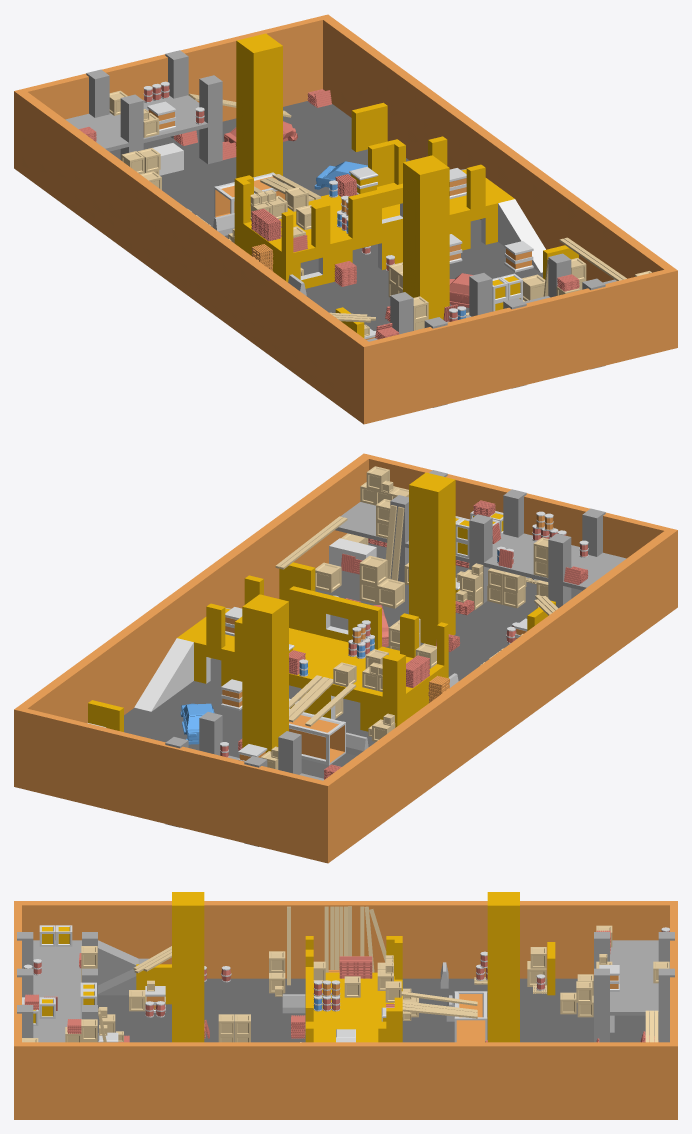
Rendered from arena_tdm_map.glb.
3 views of the same model, one above another, from view 1: azimuth 30°, elevation 25°; view 2: azimuth 150°, elevation 25°; view 3: azimuth 270°, elevation 25° (orthographic). The views are drawn at different scales.
Visible parts, largest first — view 1: floors, room, Plane, Cube.016, obj.048, obj.049, Cube.004, Cube.001, obj.004, Cube.005, BigBox.004, Cube.011 (+2 smaller); view 2: floors, room, Plane, Cube.004, obj.048, obj.049, Cube.016, Cube.002, Cube.005, obj.002, obj.004, Cube.017 (+4 smaller); view 3: floors, Plane, Cube.016, Cube.004, room, obj.048, obj.049, up2, Cube.005, Cube.030, obj.024, Cube.023 (+17 smaller).
Boxes of the visible parts, box(x1,y1,x2,y2) form: floors: box(14, 14, 677, 424); room: box(234, 136, 514, 288); Plane: box(110, 101, 542, 330); Cube.016: box(65, 50, 222, 164); obj.048: box(403, 155, 449, 319); obj.049: box(236, 33, 282, 178); Cube.004: box(367, 253, 616, 407); Cube.001: box(498, 199, 545, 272); obj.004: box(351, 102, 387, 151); Cube.005: box(214, 172, 286, 217); BigBox.004: box(504, 241, 533, 272); Cube.011: box(153, 143, 183, 175); floors: box(14, 453, 677, 863); room: box(177, 575, 448, 731); Plane: box(124, 543, 581, 778); Cube.004: box(335, 470, 626, 608); obj.048: box(409, 472, 455, 645); obj.049: box(242, 594, 288, 752); Cube.016: box(165, 712, 323, 846); Cube.002: box(134, 638, 193, 711); Cube.005: box(289, 709, 345, 765); obj.002: box(279, 562, 315, 601); obj.004: box(88, 700, 123, 731); Cube.017: box(329, 538, 376, 566); floors: box(14, 901, 677, 1119); Plane: box(98, 978, 658, 1042); Cube.016: box(594, 932, 674, 1042); Cube.004: box(17, 932, 97, 1042); room: box(305, 936, 402, 1042); obj.048: box(172, 892, 204, 1042); obj.049: box(487, 892, 519, 1042); up2: box(98, 940, 148, 995); Cube.005: box(454, 991, 487, 1042); Cube.030: box(330, 906, 347, 969); obj.024: box(136, 964, 171, 1004); Cube.023: box(360, 906, 374, 972).
Bounding box in the file's own units: 8.5 × 4.05 × 16.4.
